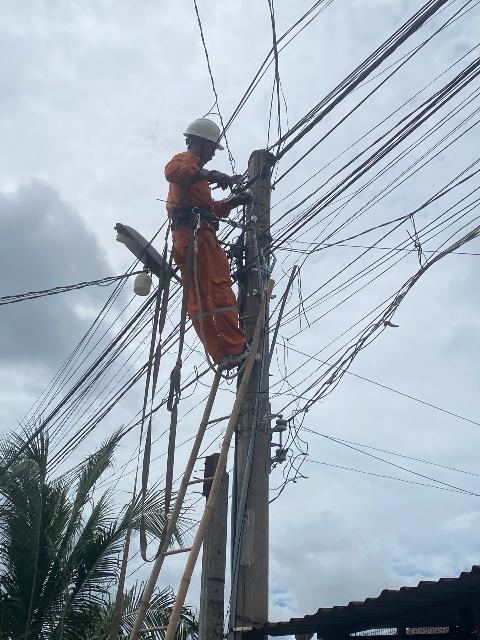gloves: (215, 192, 261, 215), (197, 167, 236, 188)
harness: (162, 207, 228, 231)
helmet: (179, 114, 234, 154)
shoes: (232, 341, 274, 367), (206, 353, 238, 385)
